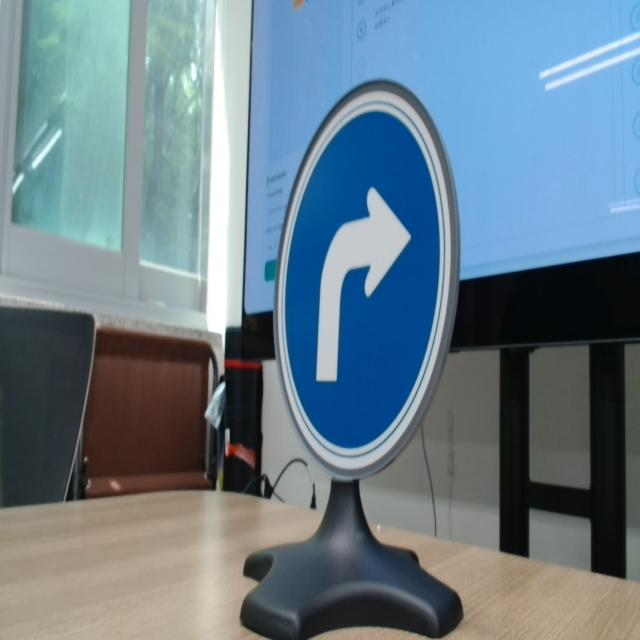right_dierection: (272, 79, 460, 481)
